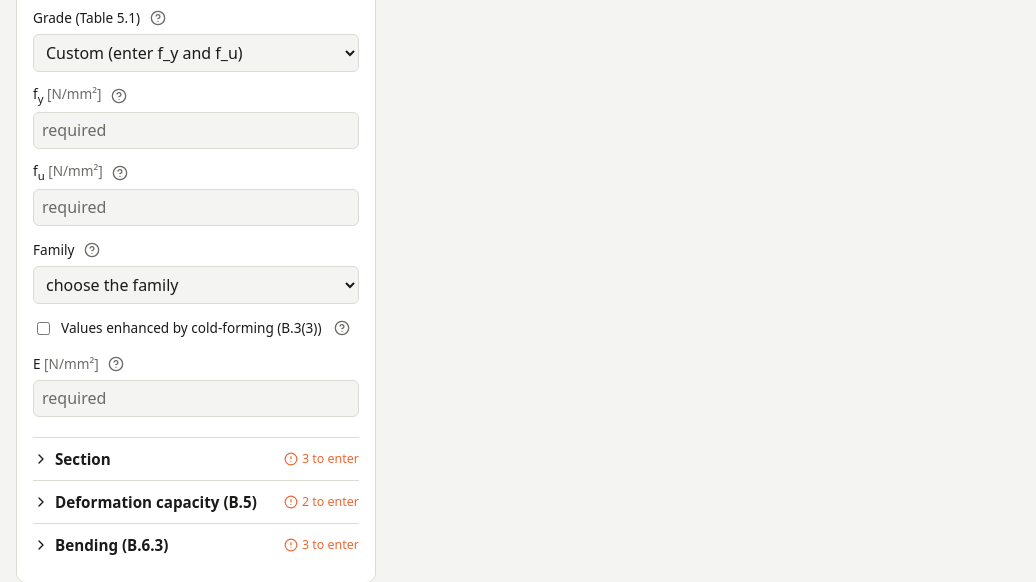
Test: the Section group › I-section: its dimension fields, each with a ? button
(page scrolled)
Click the button "Section 3 to enter".
click(83, 459)  # box [33,438,359,480]
(page scrolled)
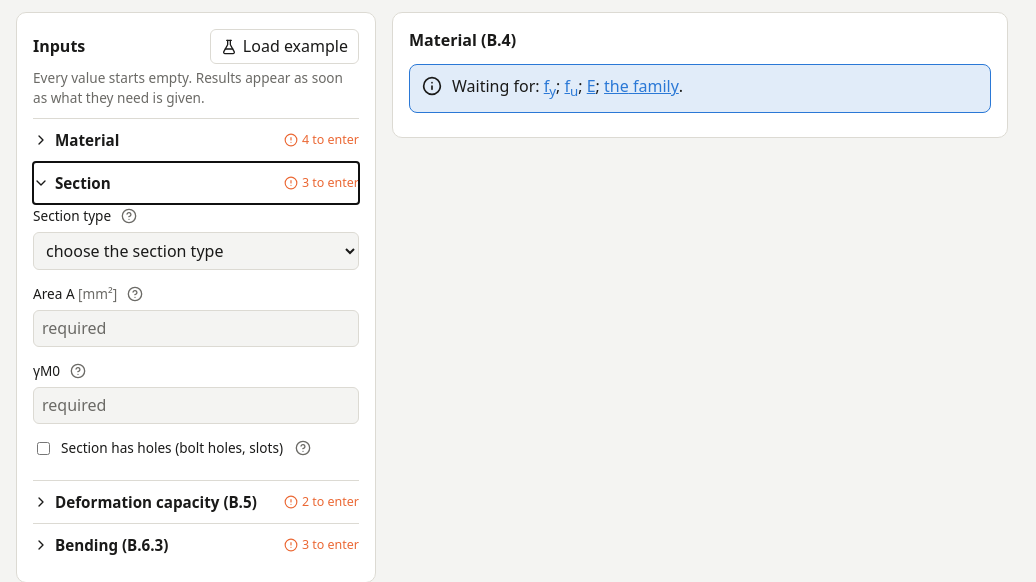
Select "I-section" in the dropdown labelled "Section type" at coordinates (196, 251), box [33,232,359,270]
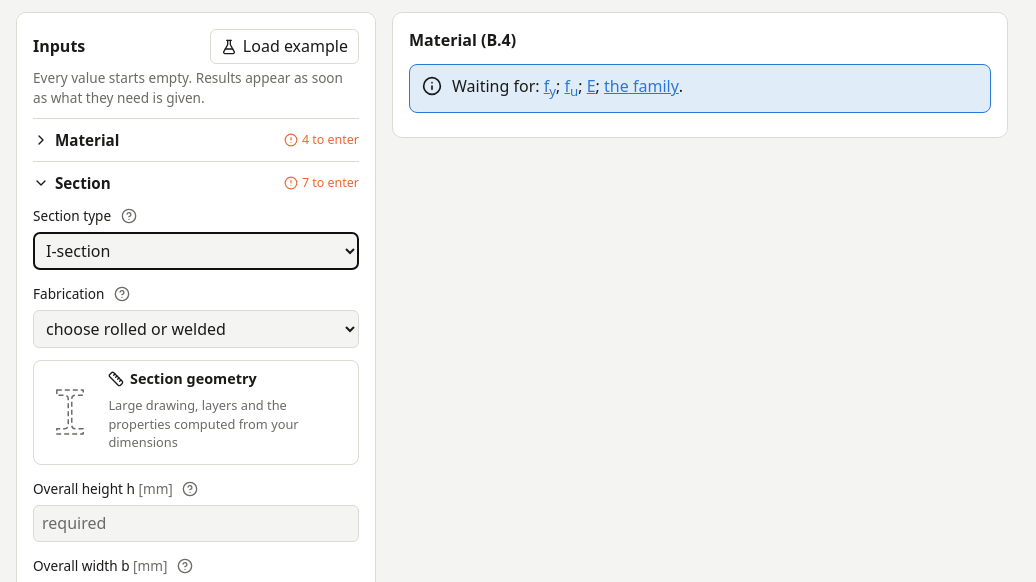
Select "Rolled (root radius r)" in the dropdown labelled "Fabrication" at coordinates (196, 329), box [33,310,359,348]
(page scrolled)
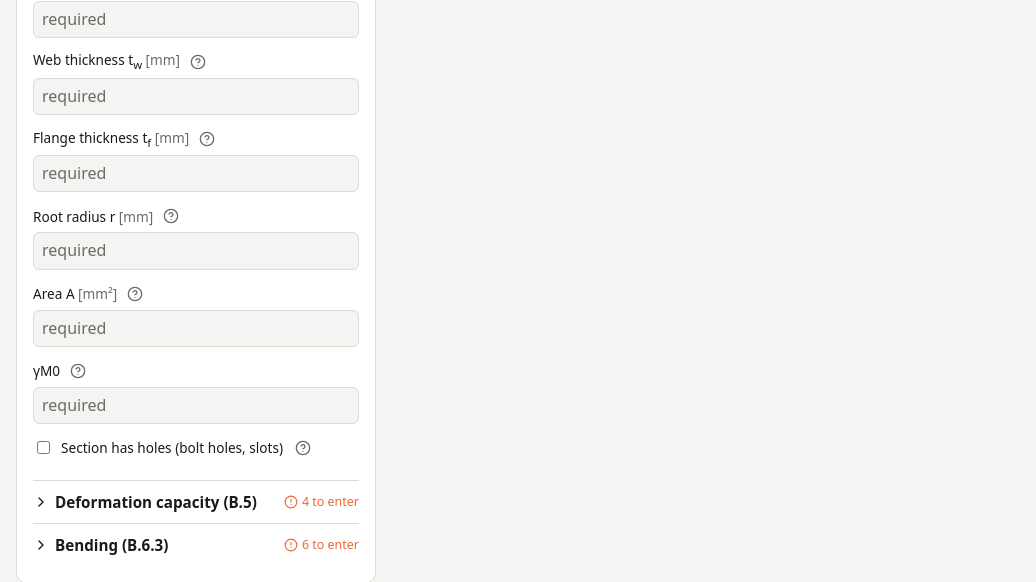
expect the button named "What is " is shown: met, box [159,204,183,228]
expect the number field labelled "Root radius r [mm]" is not empty: met, box [33,232,359,270]
